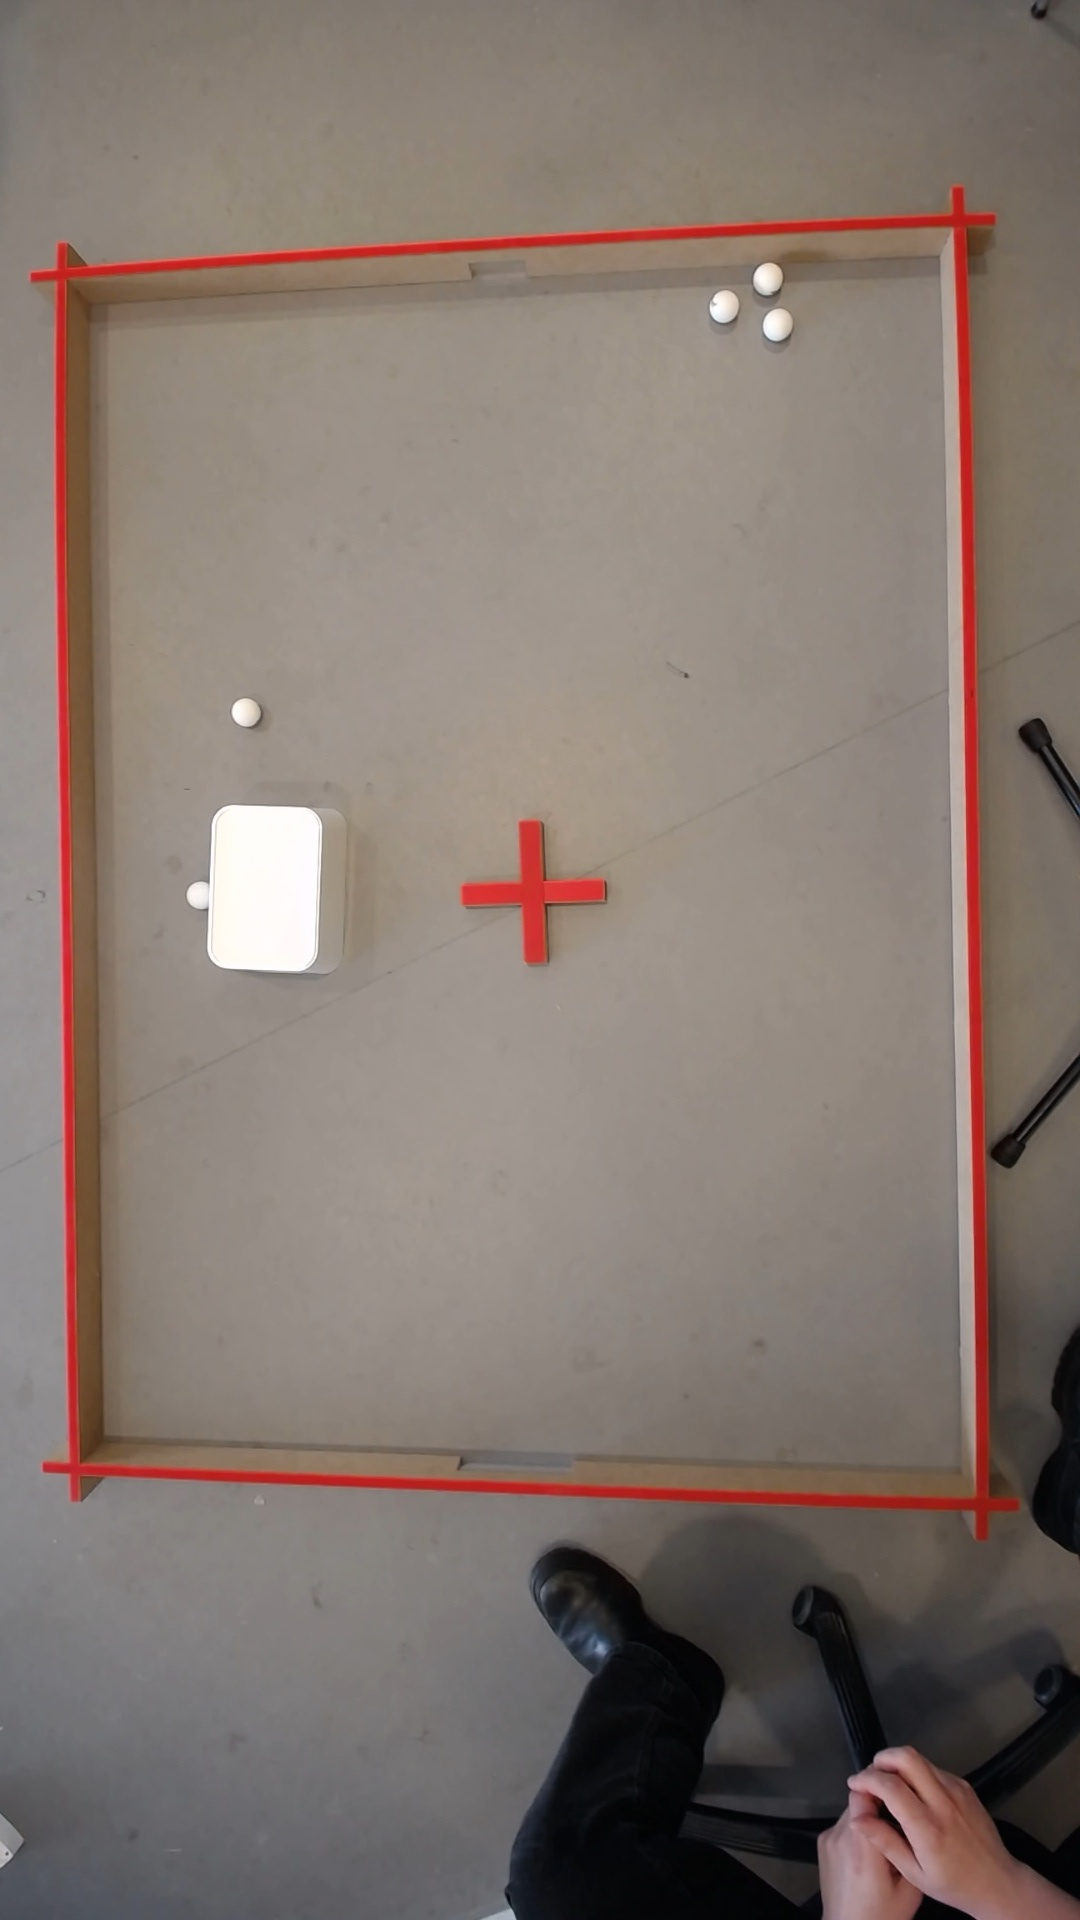balls: (756, 305, 793, 343), (705, 287, 736, 323), (749, 260, 781, 293)
car: (227, 695, 257, 727)
